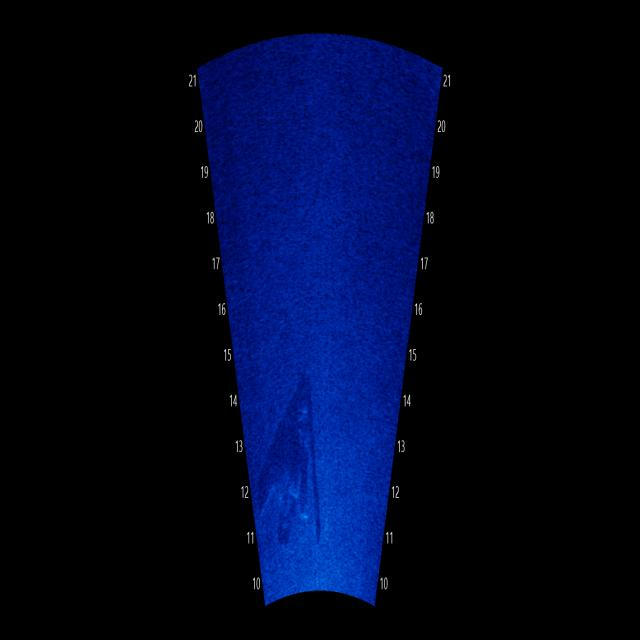triangle: (256, 382, 332, 558)
